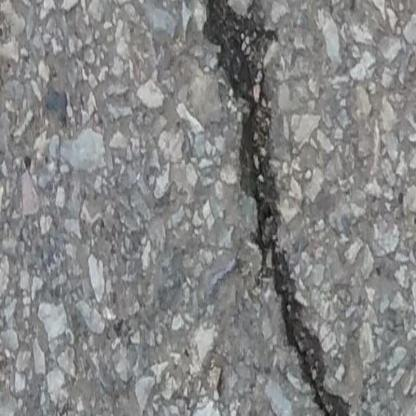Cracks: (198, 0, 355, 416)
